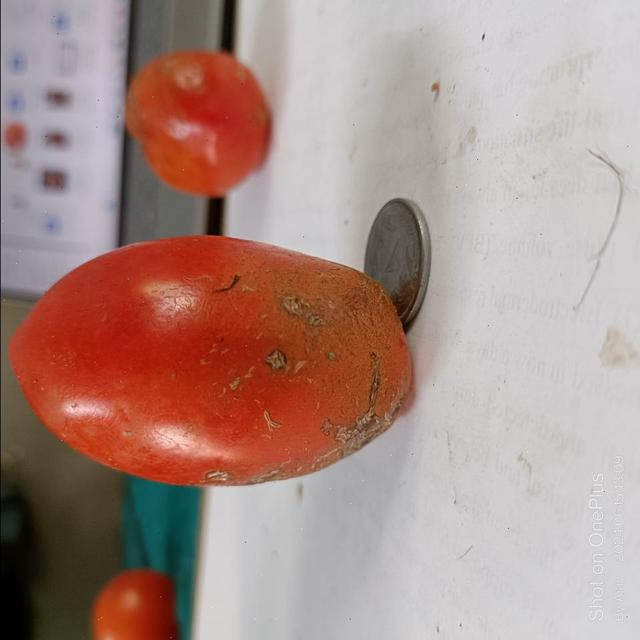Bacterial Spot Fruit: (21, 16, 240, 266)
